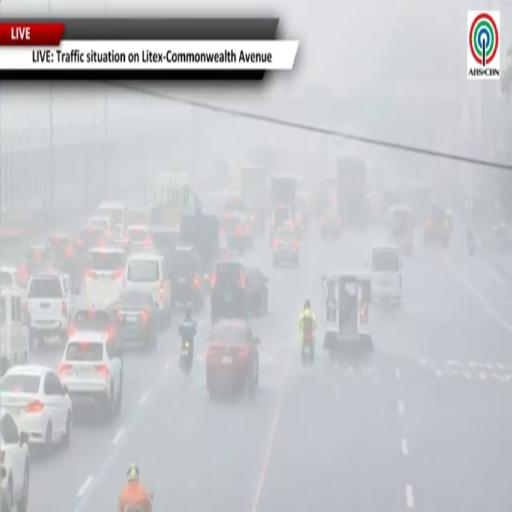car: (0, 365, 72, 454), (59, 332, 122, 418), (322, 271, 373, 357), (206, 319, 259, 397), (26, 272, 76, 348), (125, 252, 172, 326), (0, 408, 29, 511), (83, 247, 125, 308), (0, 286, 28, 376), (115, 291, 158, 348), (211, 261, 246, 323), (171, 246, 204, 309), (367, 246, 402, 305), (47, 234, 80, 283), (69, 308, 116, 340), (424, 203, 452, 247), (20, 245, 49, 286), (151, 227, 179, 267), (245, 267, 267, 315), (272, 228, 299, 266), (223, 213, 248, 253), (75, 227, 112, 254), (270, 205, 294, 242), (98, 202, 126, 231), (0, 266, 26, 292), (319, 208, 341, 238), (126, 224, 152, 249), (86, 216, 115, 237), (239, 212, 254, 247), (127, 208, 149, 225), (219, 227, 230, 260)
motorcycle: (179, 339, 193, 373), (301, 333, 314, 365), (468, 232, 476, 255), (124, 506, 145, 511)
truck: (149, 173, 199, 229), (337, 157, 368, 225), (241, 165, 267, 230), (270, 175, 297, 218)
